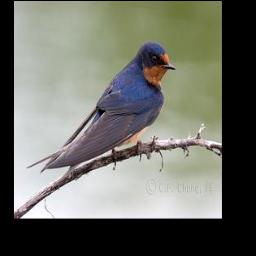Swallow: (25, 39, 176, 174)
